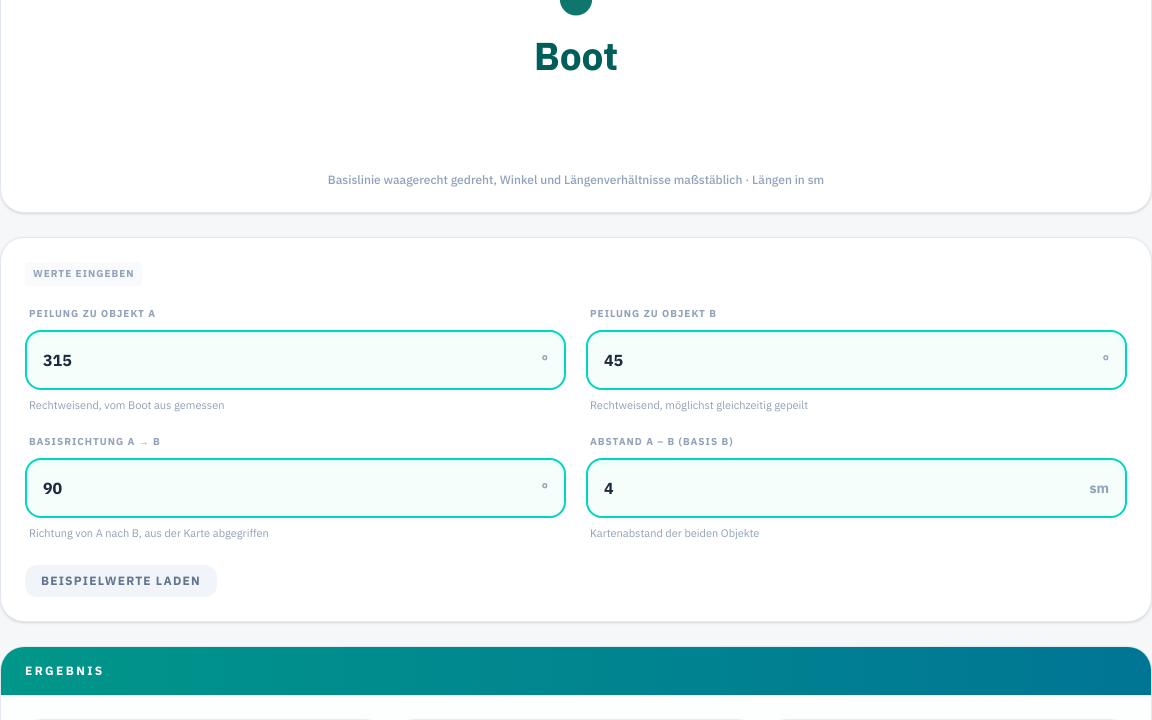
Scenario: KreuzpeilungRechner › widersprüchliche Richtungen ergeben eine Fehlermeldung
The image size is (1152, 720).
(page scrolled)
Replace the text in the number field labelled "Peilung zu Objekt B" with "200" at (856, 360), box [588, 332, 1125, 388]
(page scrolled)
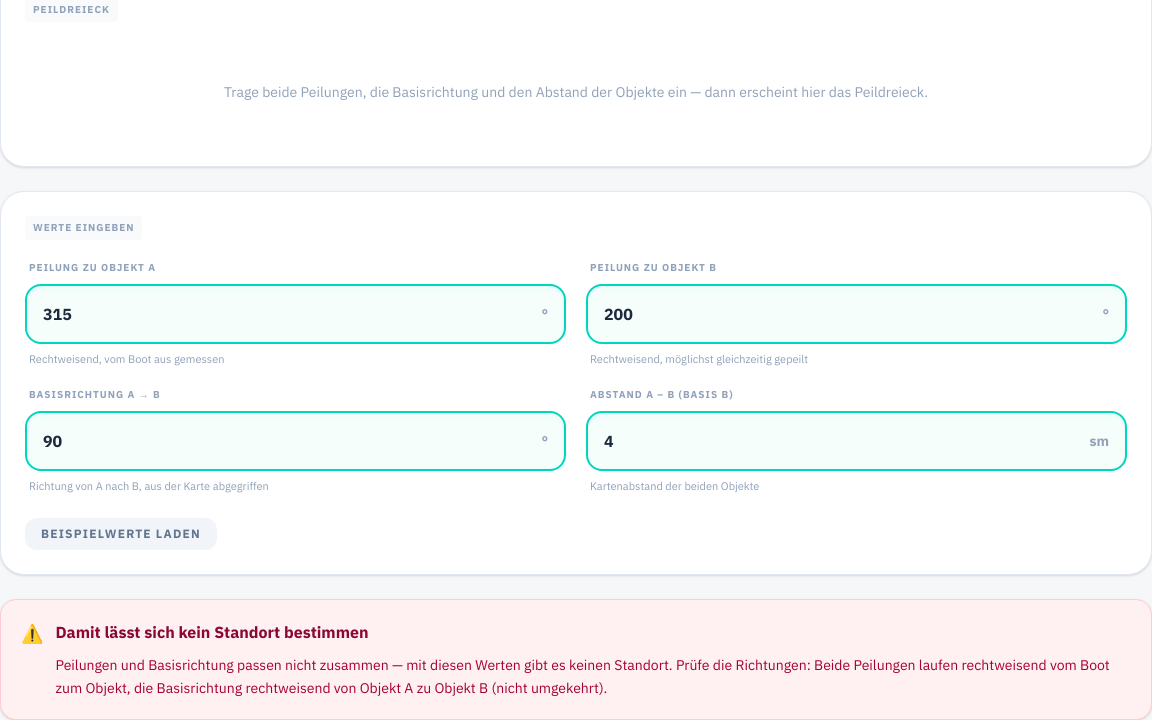
Expected: the text "Damit lässt sich kein Standort bestimmen" is shown, [56, 622, 368, 642]
